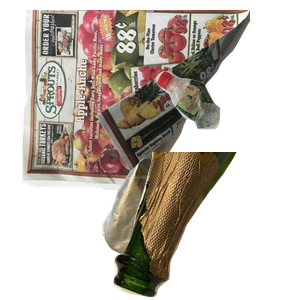glass: (111, 152, 300, 300)
paper: (18, 10, 258, 190)
plastic: (153, 68, 300, 190)
trash: (99, 155, 268, 300)
